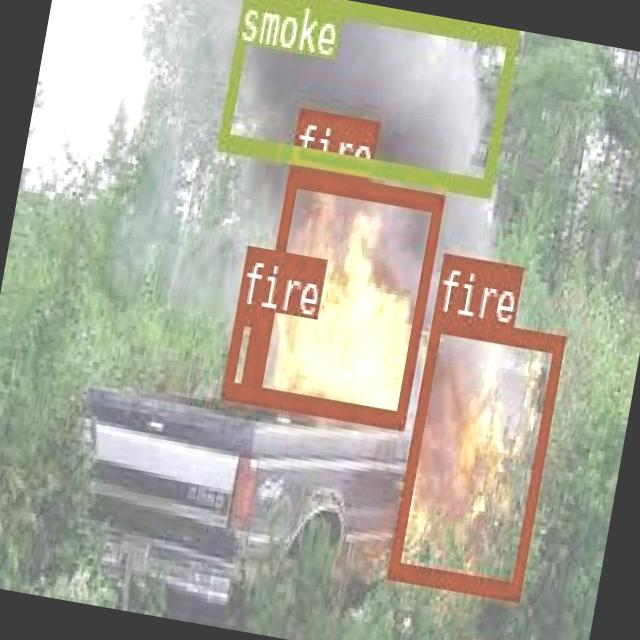fire: (247, 164, 442, 426), (386, 310, 563, 597), (219, 303, 262, 398)
smoke: (215, 0, 516, 195)
